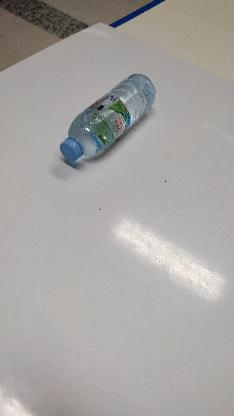Plastic Bottle: (56, 67, 158, 169)
